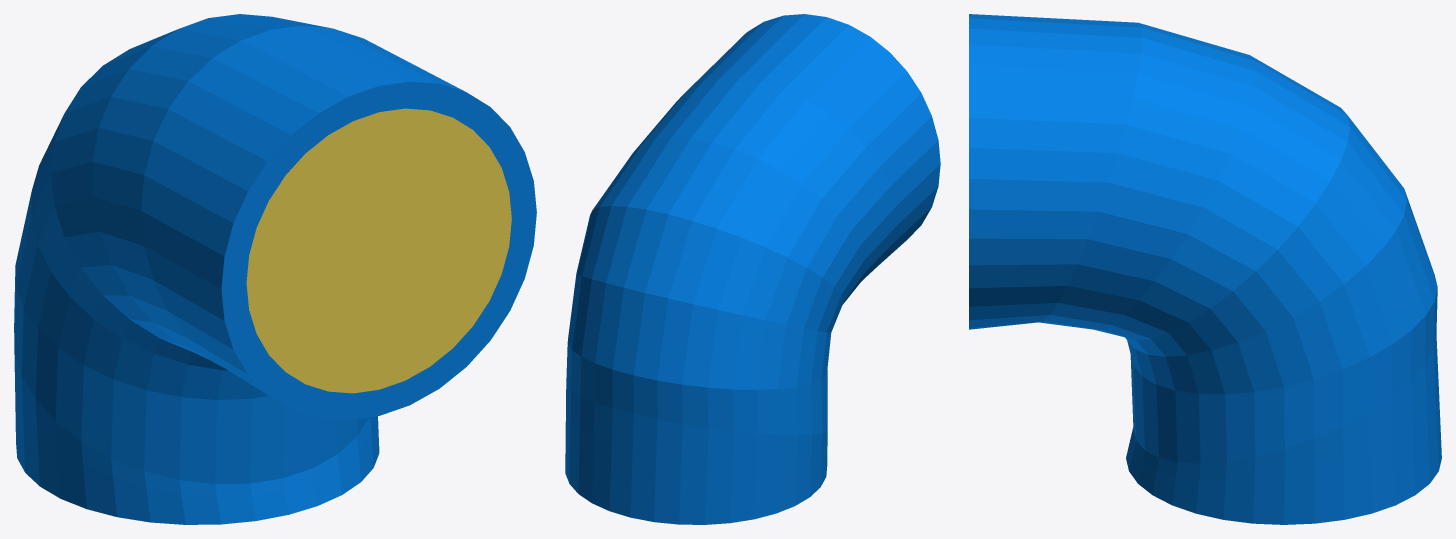
Rendered from Cable L.fbx.
3 views of the same model, side by side, from view 1: azimuth 30°, elevation 25°; view 2: azimuth 150°, elevation 25°; view 3: azimuth 270°, elevation 25° (orthographic). The views are drawn at different scales.
Visible parts, largest first — view 1: CABLE L; view 2: CABLE L; view 3: CABLE L.
Part boxes in pixels (left/top/right/bottom): CABLE L: left=14, top=14, right=536, bottom=524; CABLE L: left=565, top=14, right=940, bottom=524; CABLE L: left=969, top=14, right=1441, bottom=524.
Bounding box in the file's own units: 104 × 150 × 150.
